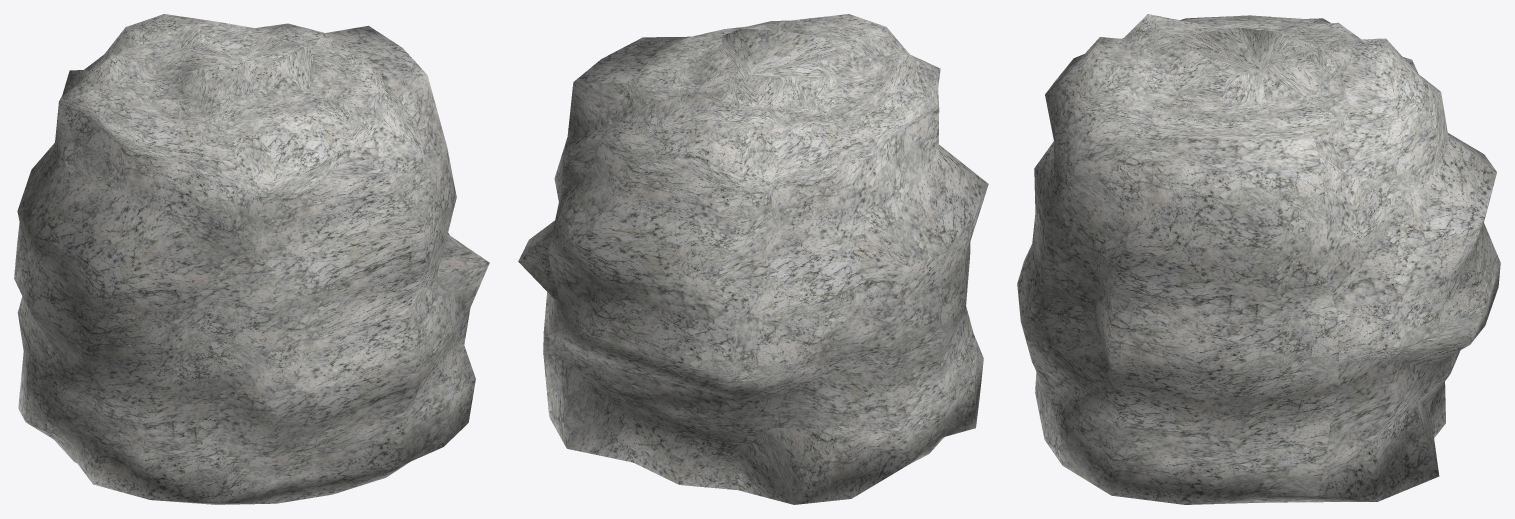
File: HardenedBall.obj
The picture shows the model from 3 angles, left to right: view 1: azimuth 30°, elevation 25°; view 2: azimuth 150°, elevation 25°; view 3: azimuth 270°, elevation 25°; orthographic projection. The views are drawn at different scales.
Visible parts, largest first — view 1: pasted__pSphere2; view 2: pasted__pSphere2; view 3: pasted__pSphere2.
Boxes of the visible parts, x1=… form: pasted__pSphere2: x1=14, y1=14, x2=489, y2=504; pasted__pSphere2: x1=518, y1=14, x2=988, y2=504; pasted__pSphere2: x1=1017, y1=14, x2=1500, y2=504.
Size of the model in its own units: 2.57 by 2.31 by 2.65.
1 material, 1 textured.
